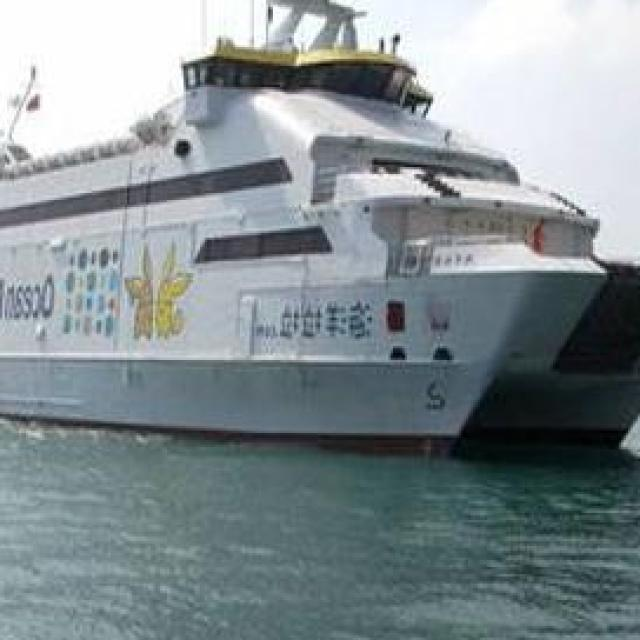passenger ship: (0, 0, 640, 438)
